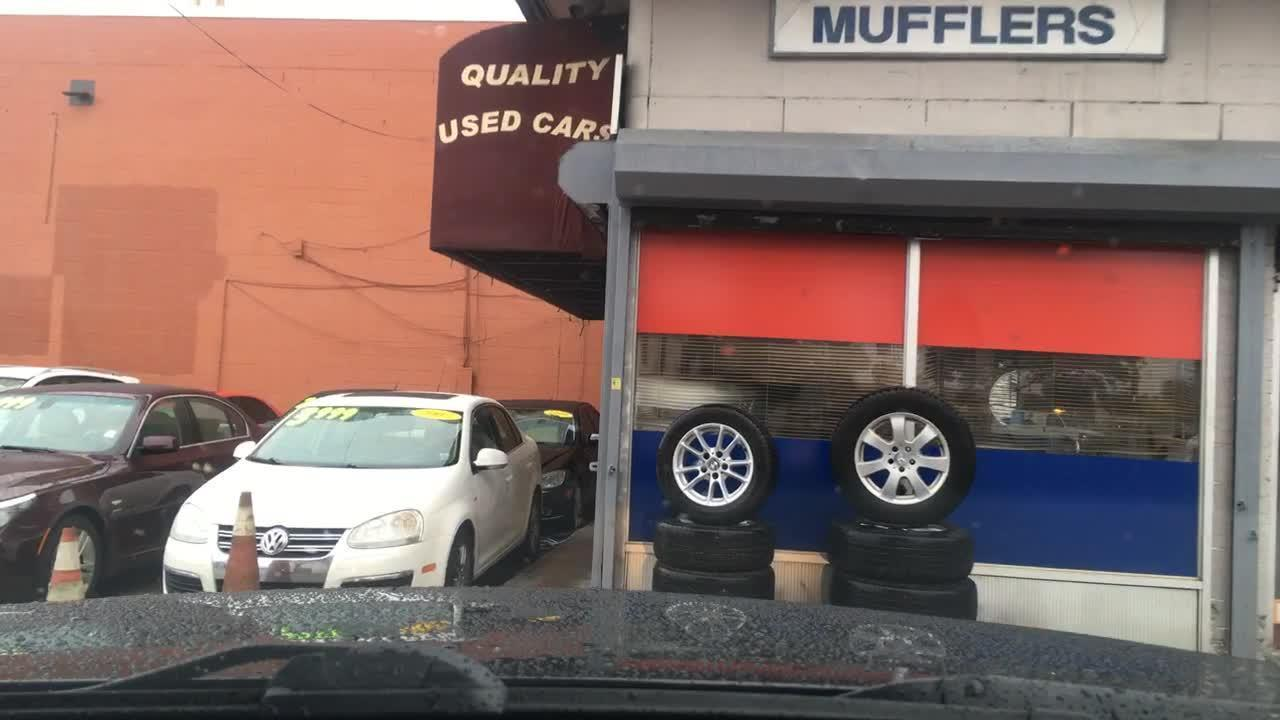Volkswagen: (257, 505, 299, 561)
